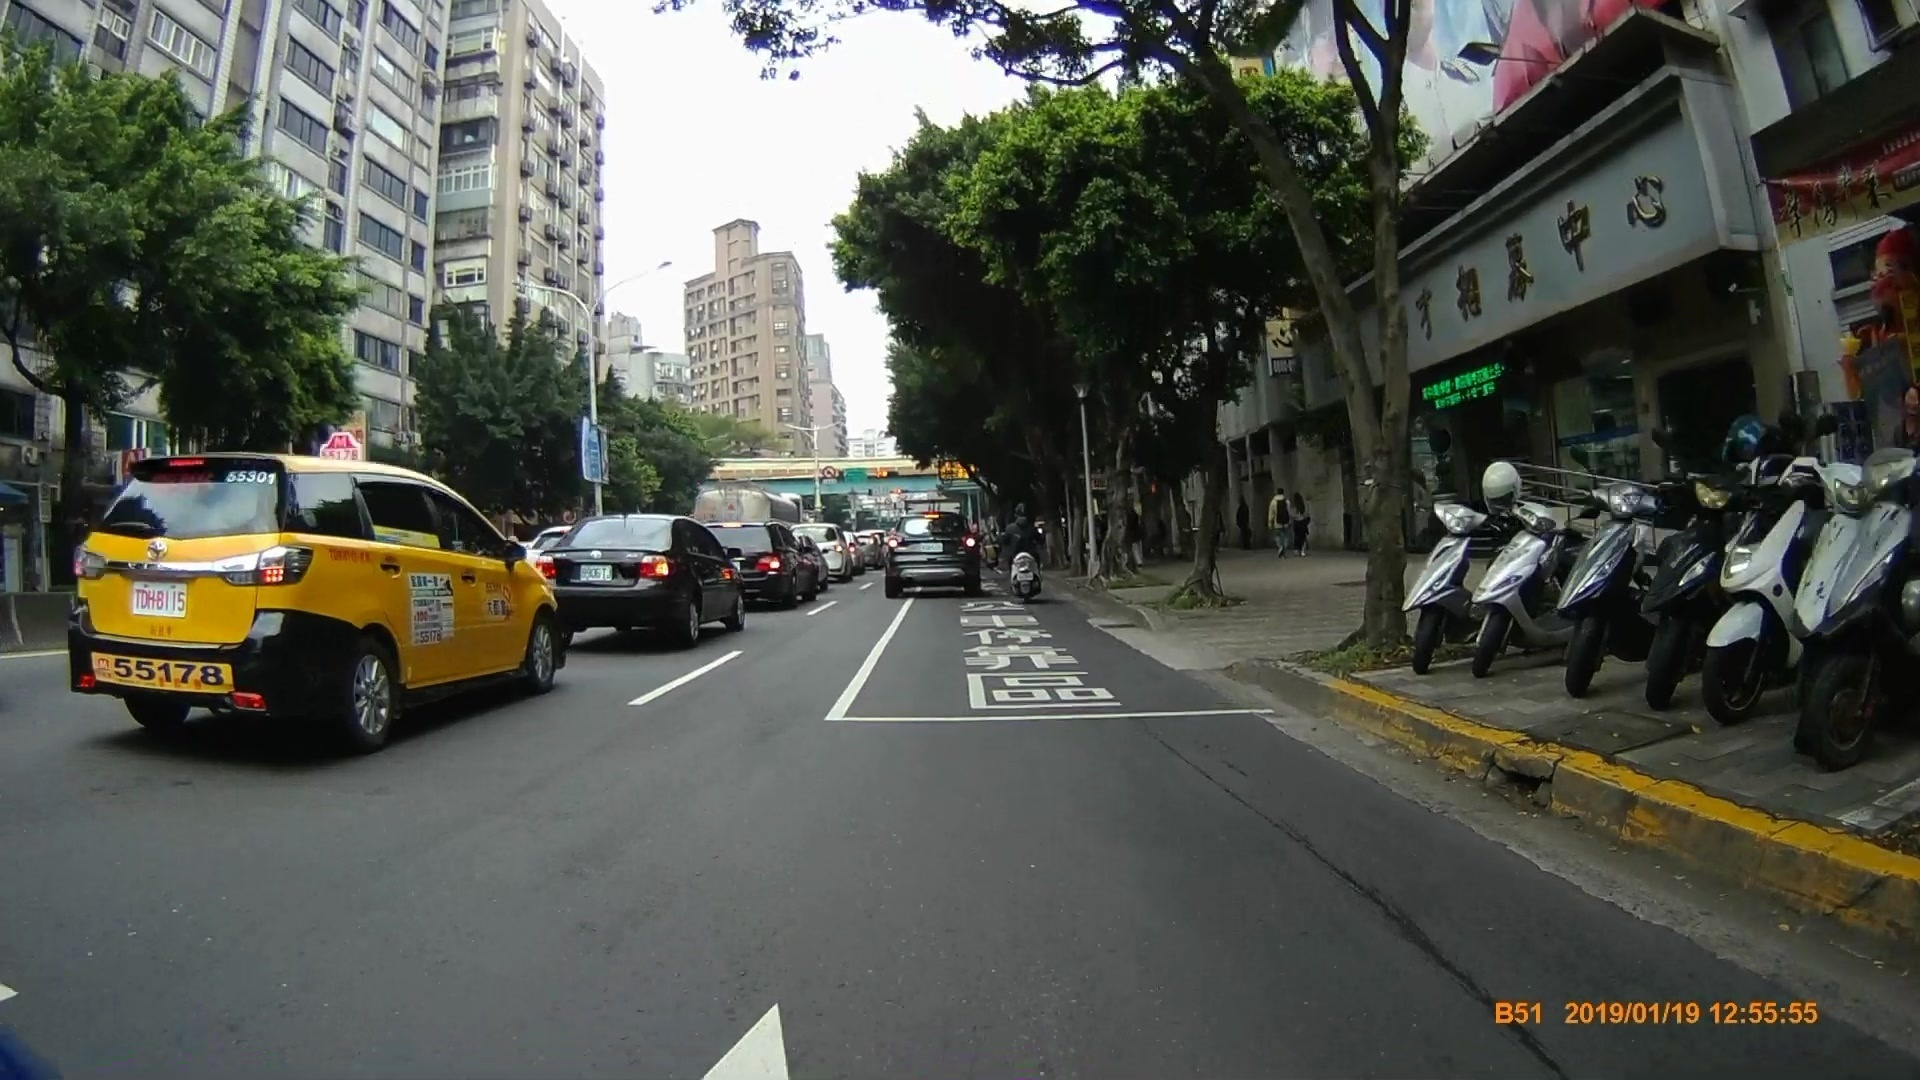License_plate: (126, 582, 191, 618), (577, 559, 612, 583)
